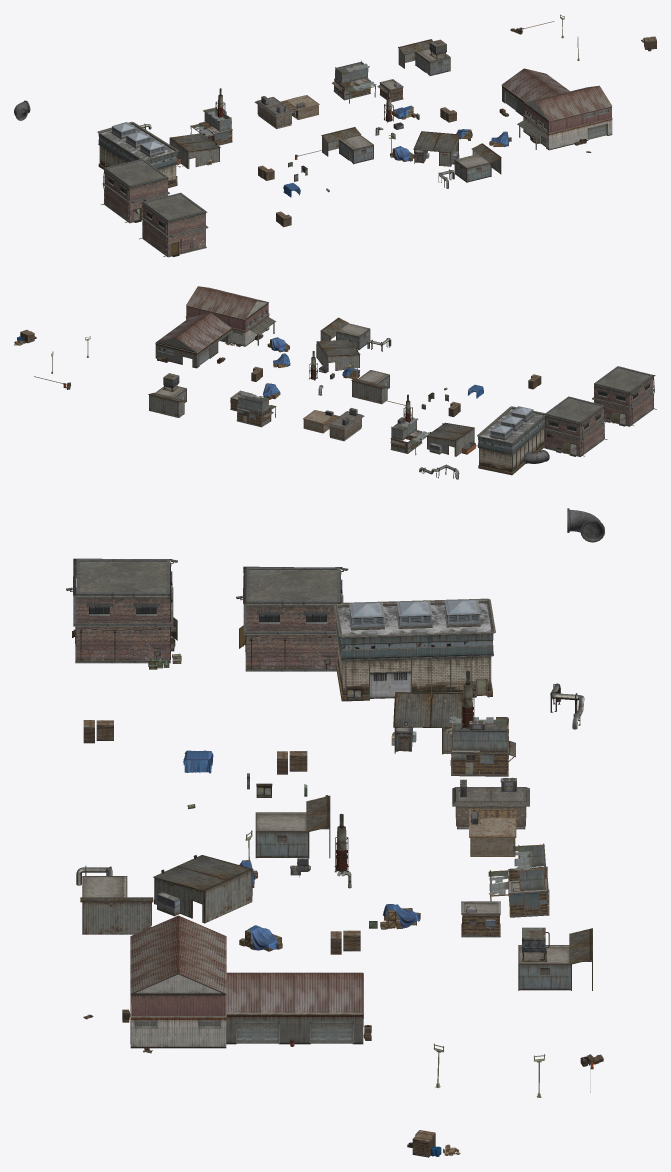
The model's file is Area-01.fbx.
3 views of the same model, one above another, from view 1: azimuth 30°, elevation 25°; view 2: azimuth 150°, elevation 25°; view 3: azimuth 270°, elevation 25° (orthographic). The views are drawn at different scales.
Visible parts, largest first — view 1: Hangar_v2_basic, Hangar_v4, MS68, Walls_v1_1, vlg_buil_002__1_, Outbuildings_v1_8, Outbuildings_v1_4__1_, Outbuildings_v1_4, Outbuildings_v1_8__1_, Outbuildings_v1_1_003_1, MS116, Walls_v1 (+6 smaller); view 2: Hangar_v4, Hangar_v2_basic, MS68, Walls_v1, vlg_buil_002__1_, Outbuildings_v1_4__1_, Walls_v1_1, Outbuildings_v1_4, Outbuildings_v1_1_003_1, Outbuildings_v1_8, Outbuildings_v1_8__1_, MS116 (+5 smaller); view 3: Hangar_v4, Hangar_v2_basic, MS68, Outbuildings_v1_4, Walls_v1_1, Walls_v1, vlg_buil_002__1_, Outbuildings_v1_8__1_, Outbuildings_v1_1_003, Outbuildings_v1_8, Outbuildings_v1_1_003_1, Outbuildings_v1_4__1_ (+9 smaller).
Boxes of the visible parts, box(x1,y1,x2,y2) form: Hangar_v2_basic: box(517, 85, 612, 150); Hangar_v4: box(97, 121, 178, 188); MS68: box(501, 68, 569, 116); Walls_v1_1: box(143, 205, 205, 255); vlg_buil_002__1_: box(254, 95, 319, 128); Outbuildings_v1_8: box(321, 127, 373, 164); Outbuildings_v1_4__1_: box(169, 133, 220, 168); Outbuildings_v1_4: box(413, 131, 459, 166); Outbuildings_v1_8__1_: box(454, 143, 501, 182); Outbuildings_v1_1_003_1: box(332, 60, 376, 103); MS116: box(398, 39, 450, 75); Walls_v1: box(104, 171, 167, 221); Hangar_v4: box(477, 406, 545, 475); Hangar_v2_basic: box(185, 286, 275, 346); MS68: box(155, 312, 231, 368); Walls_v1: box(544, 408, 603, 455); vlg_buil_002__1_: box(303, 410, 364, 441); Outbuildings_v1_4__1_: box(426, 422, 474, 456); Walls_v1_1: box(594, 377, 653, 425); Outbuildings_v1_4: box(316, 339, 360, 371); Outbuildings_v1_1_003_1: box(236, 392, 276, 427); Outbuildings_v1_8: box(351, 370, 389, 404); Outbuildings_v1_8__1_: box(320, 317, 370, 349); MS116: box(148, 385, 186, 417); Hangar_v4: box(333, 598, 495, 701); Hangar_v2_basic: box(130, 915, 226, 1048); MS68: box(226, 972, 363, 1044); Outbuildings_v1_4: box(153, 855, 253, 923); Walls_v1_1: box(76, 597, 170, 660); Walls_v1: box(246, 605, 337, 668); vlg_buil_002__1_: box(452, 787, 529, 856); Outbuildings_v1_8__1_: box(80, 876, 153, 934); Outbuildings_v1_1_003: box(449, 716, 515, 776); Outbuildings_v1_8: box(255, 795, 330, 858); Outbuildings_v1_1_003_1: box(488, 843, 549, 917); Outbuildings_v1_4__1_: box(391, 692, 463, 754).
Bounding box in the file's own units: 18753 × 1771 × 7751.
